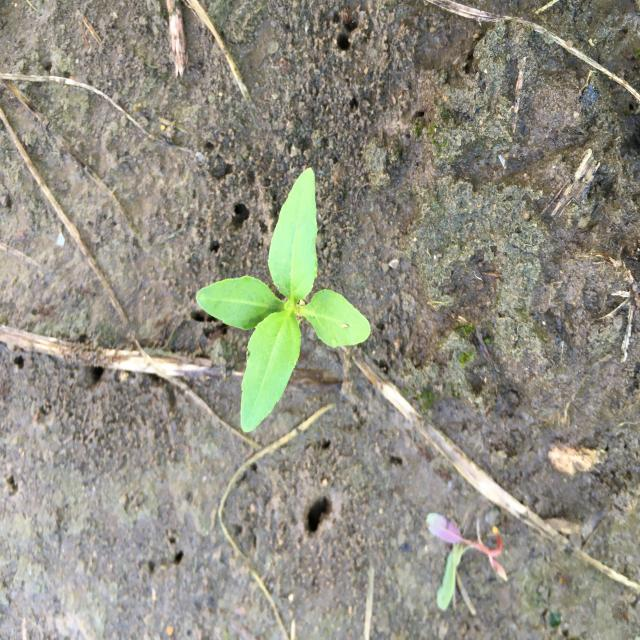Eclipta: (192, 165, 372, 436)
